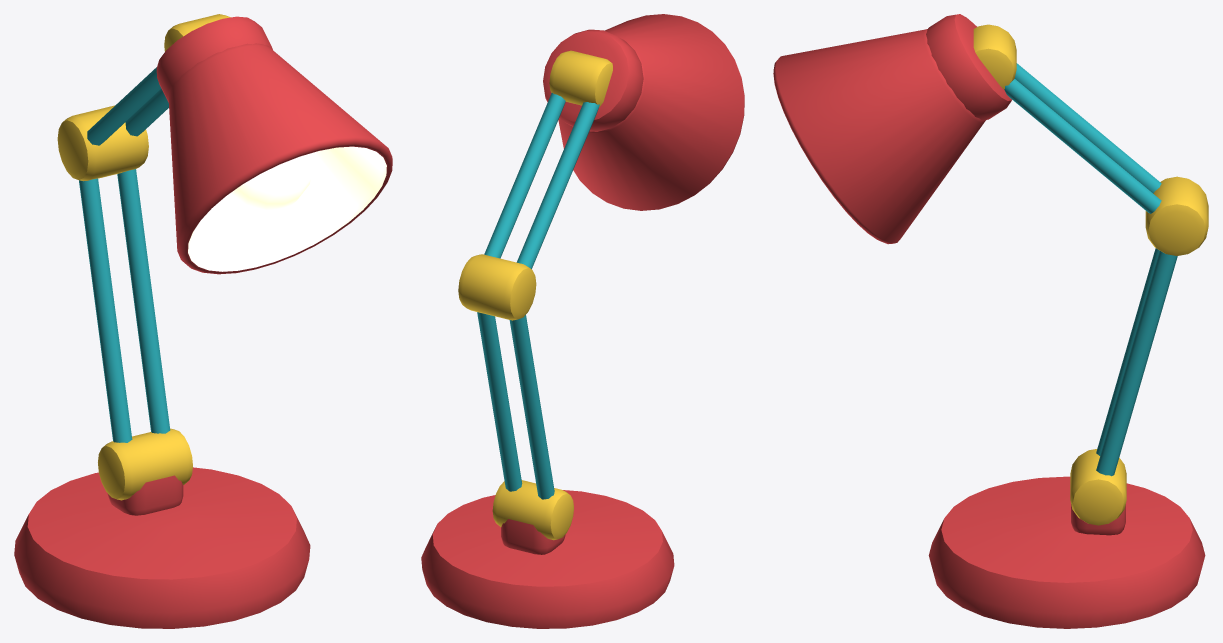
Rendered from luminaria_mesa_articulada.glb.
The picture shows the model from 3 angles, left to right: view 1: azimuth 30°, elevation 25°; view 2: azimuth 150°, elevation 25°; view 3: azimuth 270°, elevation 25°; orthographic projection. The views are drawn at different scales.
Parts seen in each view (by area): view 1: luminaria_mesa_articulada; view 2: luminaria_mesa_articulada; view 3: luminaria_mesa_articulada.
Boxes of the visible parts, x1,y1,x2,y2 form: luminaria_mesa_articulada: [14, 14, 392, 628]; luminaria_mesa_articulada: [421, 14, 744, 628]; luminaria_mesa_articulada: [773, 14, 1208, 628].
Size of the model in its own units: 0.176 by 0.3883 by 0.2768.
Materials: 2 (1 with a texture image).
